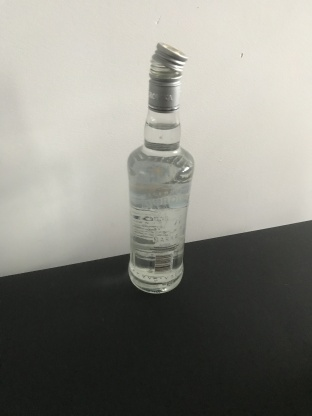nakretka: (146, 40, 189, 113)
